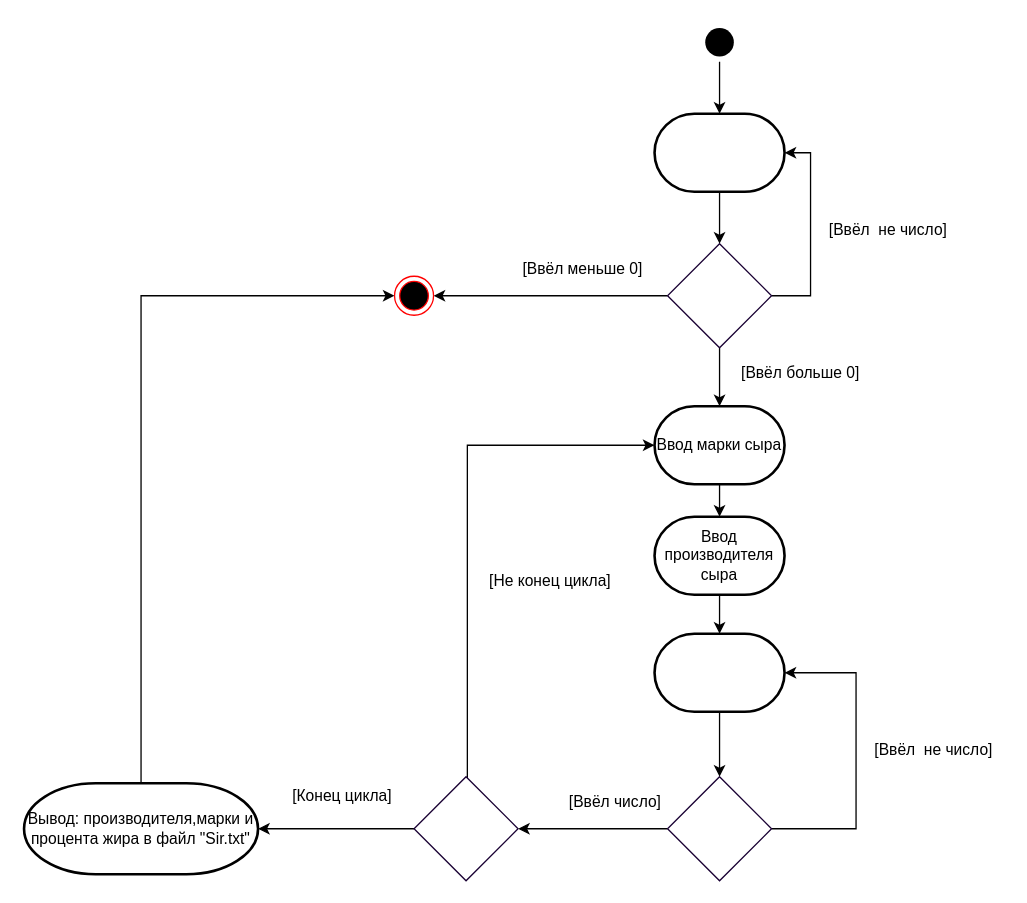
Image size: 1027x903. Some labels were removed from this diagram. The shapes that lost their labels are listed below. From the top down, each one's centre as x and y in pixels, then its label:
At [719,152]: "Ввод размера массива".
At [719,672]: "Ввод процента жира".
